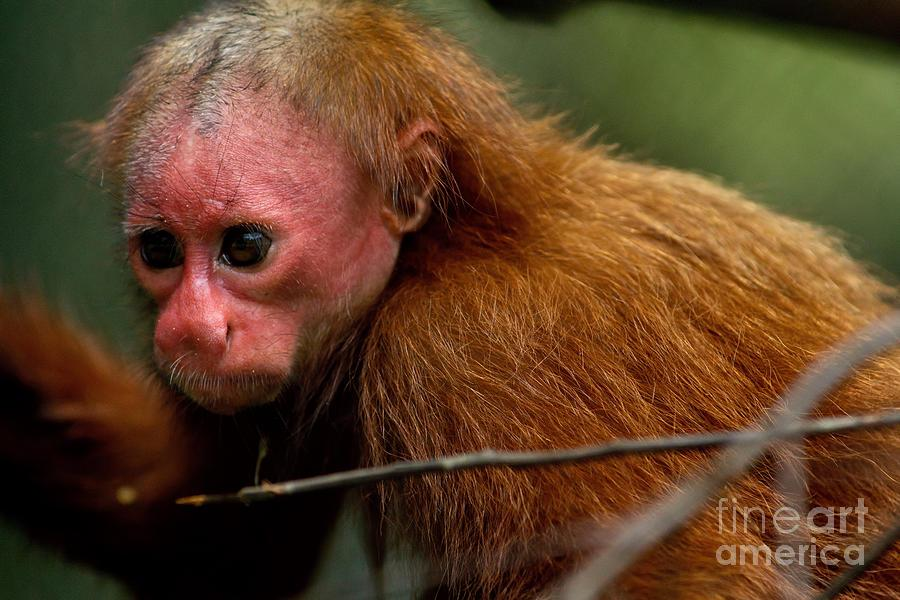monkey: (63, 0, 900, 600)
